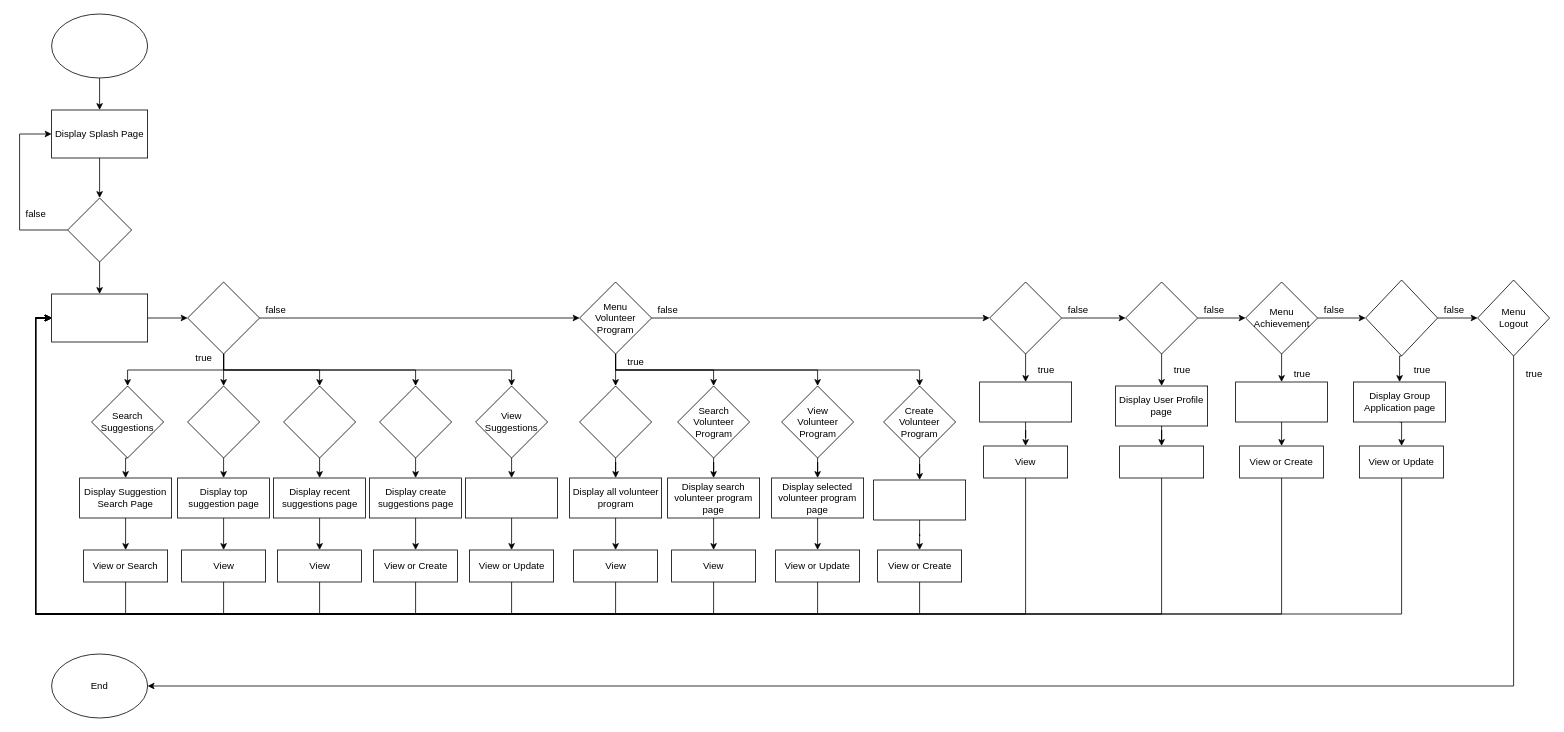
Some shapes in this 1564 by 732 pixel diagram are drawn without their labels. Each missing label, with the centre of its shape:
"Create Suggestions" goes at (415,421).
"Create volunteer program based on suggestions page" goes at (919,499).
"Display Achievement page" goes at (1281,401).
"Display Homepage and Menu" goes at (99,317).
"Display Participant Status page" goes at (1025,401).
"Display selected suggestions page" goes at (511,497).
"if Login" goes at (99,229).
"Menu Group Application" goes at (1401,317).
"Menu Participant Status" goes at (1025,317).
"Menu Suggestions" goes at (223,317).
"Menu User Profile" goes at (1161,317).
"Recent Suggestions" goes at (319,421).
"Show all Volunteer Program" goes at (615,421).
"Start" goes at (99,45).
"Top Suggestions" goes at (223,421).
"View or Search or Update" goes at (1161,461).
